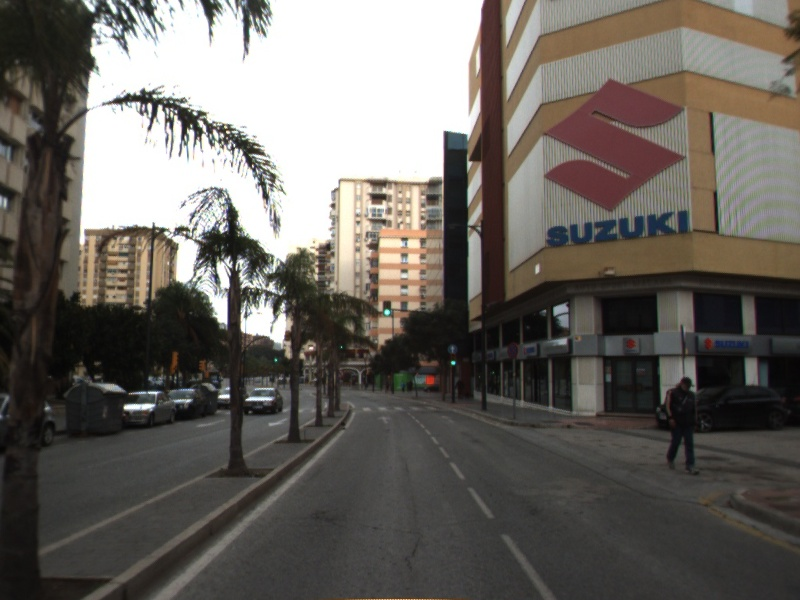STRAIGHT: (374, 413, 394, 426)
